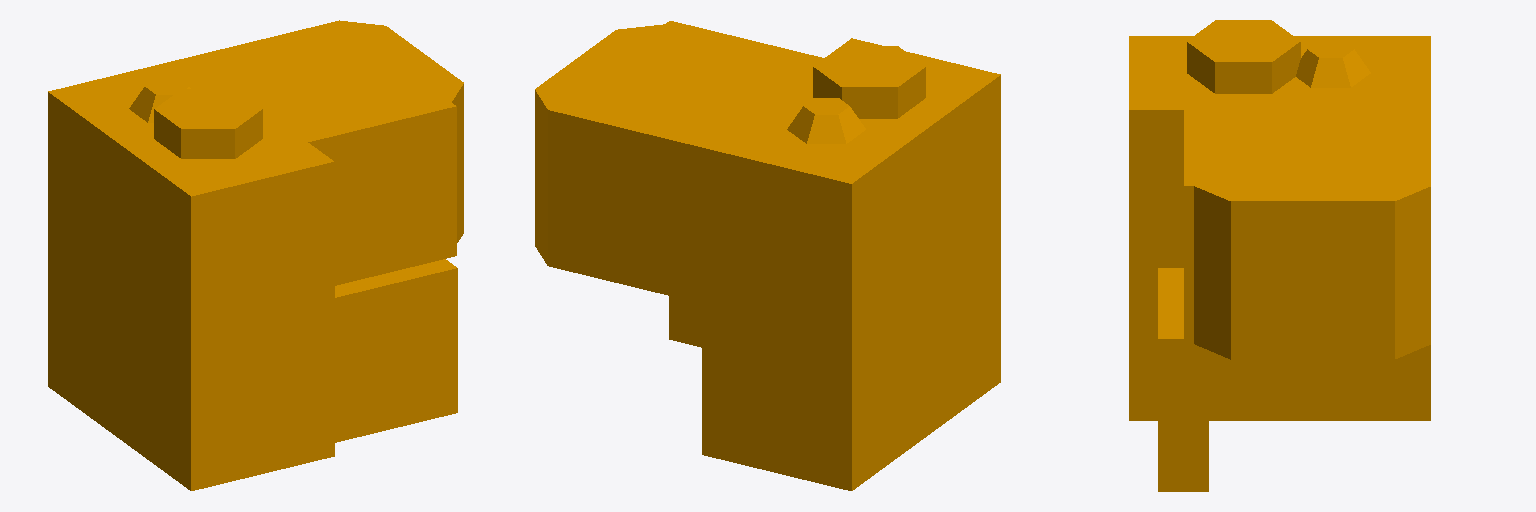
The robot description file, URDF, robot "scaffolding_v3_left":
<?xml version="1.0"?>
<!--
  Scaffolding tool v3, left-hand version, for display and collision checking.
  Stitched onto <arm>_tool0 when the monitor loads a robot: the root link sits
  exactly on tool0 (tool_urdfs.py). The mesh is the one exported from the
  planning cell (scripts/export_tool_mesh_from_cell.py), in millimetres, hence
  the scale. Mesh paths are relative to this file.
-->
<robot name="scaffolding_v3_left">
  <link name="scaffolding_v3_left">
    <visual>
      <geometry><mesh filename="../assembly_tool_v3_left_mm_from_cell.obj" scale="0.001 0.001 0.001"/></geometry>
    </visual>
    <collision>
      <geometry><mesh filename="../assembly_tool_v3_left_mm_from_cell.obj" scale="0.001 0.001 0.001"/></geometry>
    </collision>
  </link>
</robot>

--- What the picture shows (computed from the rendered views, not written in the file) ---
Views: 3 orthographic renders of the robot side by side, from view 1: azimuth 30°, elevation 25°; view 2: azimuth 150°, elevation 25°; view 3: azimuth 270°, elevation 25°.
Robot: scaffolding_v3_left — 1 links, 0 joints (none); root link scaffolding_v3_left; default pose: all joints at 0.
Links seen in each view (by area): view 1: scaffolding_v3_left; view 2: scaffolding_v3_left; view 3: scaffolding_v3_left.
Link boxes in pixels (x1,y1,x2,y2): scaffolding_v3_left: (48,20,463,490); scaffolding_v3_left: (535,21,1000,490); scaffolding_v3_left: (1129,20,1430,491).
Bounding box of the posed robot: 0.1345 × 0.104 × 0.13 m (x, y, z).
1 mesh visuals loaded from 1 distinct referenced files (1 OBJ).
